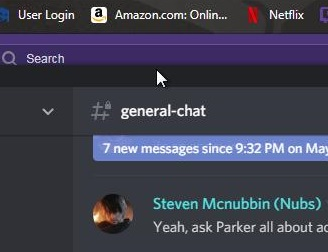cursor: (153, 66, 170, 91)
